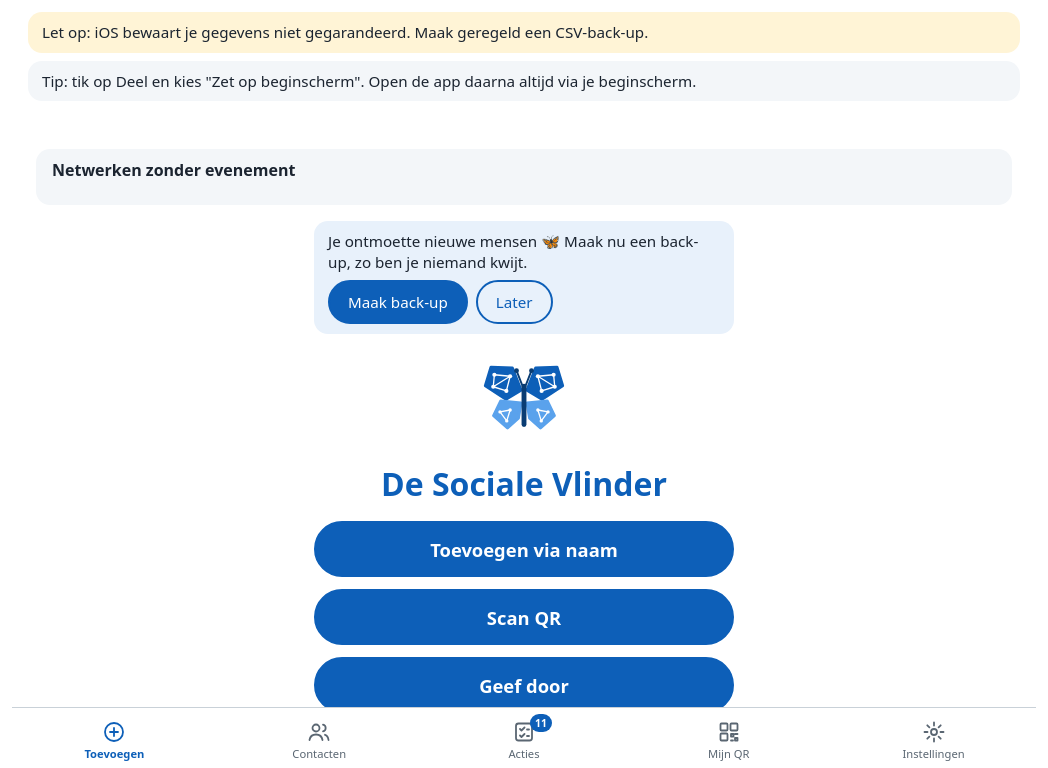
Scenario: Contact list (F7 User Story 1) › opens on all contacts during casual networking
The width and height of the screenshot is (1048, 768).
Click the button "Contacten". click: (319, 740)
box: [217, 712, 422, 767]
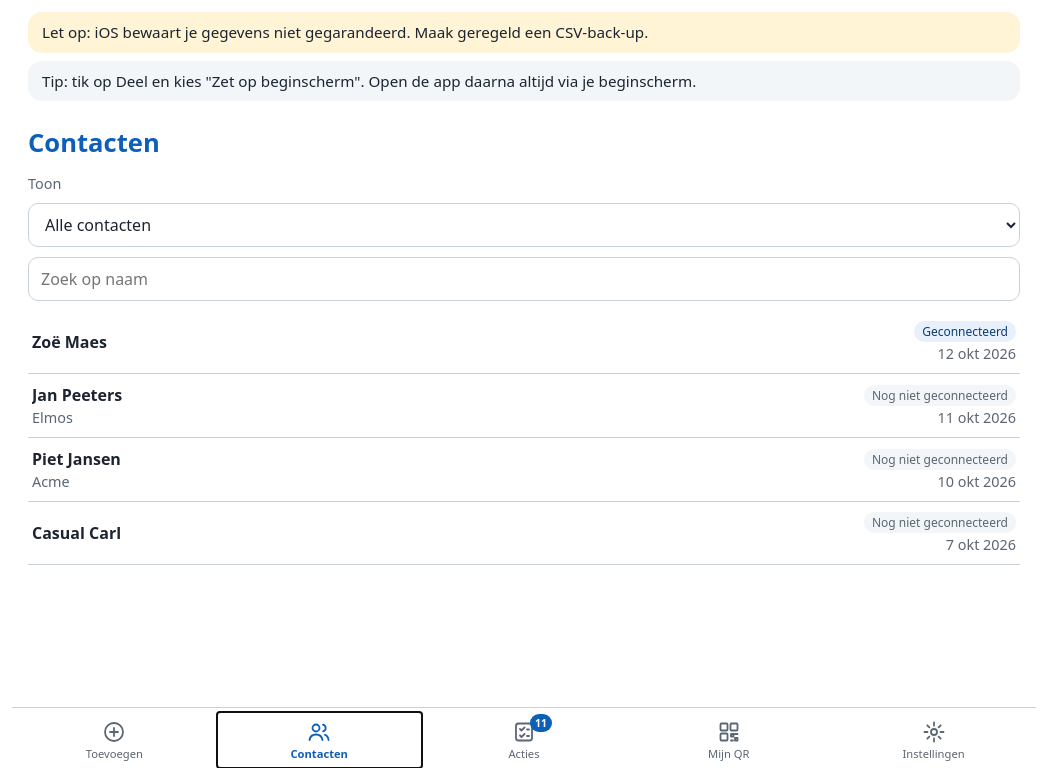
Result: the heading "Contacten" is shown at [28, 125, 160, 160]
Result: the text "Zoë Maes" is shown at [32, 331, 107, 353]
